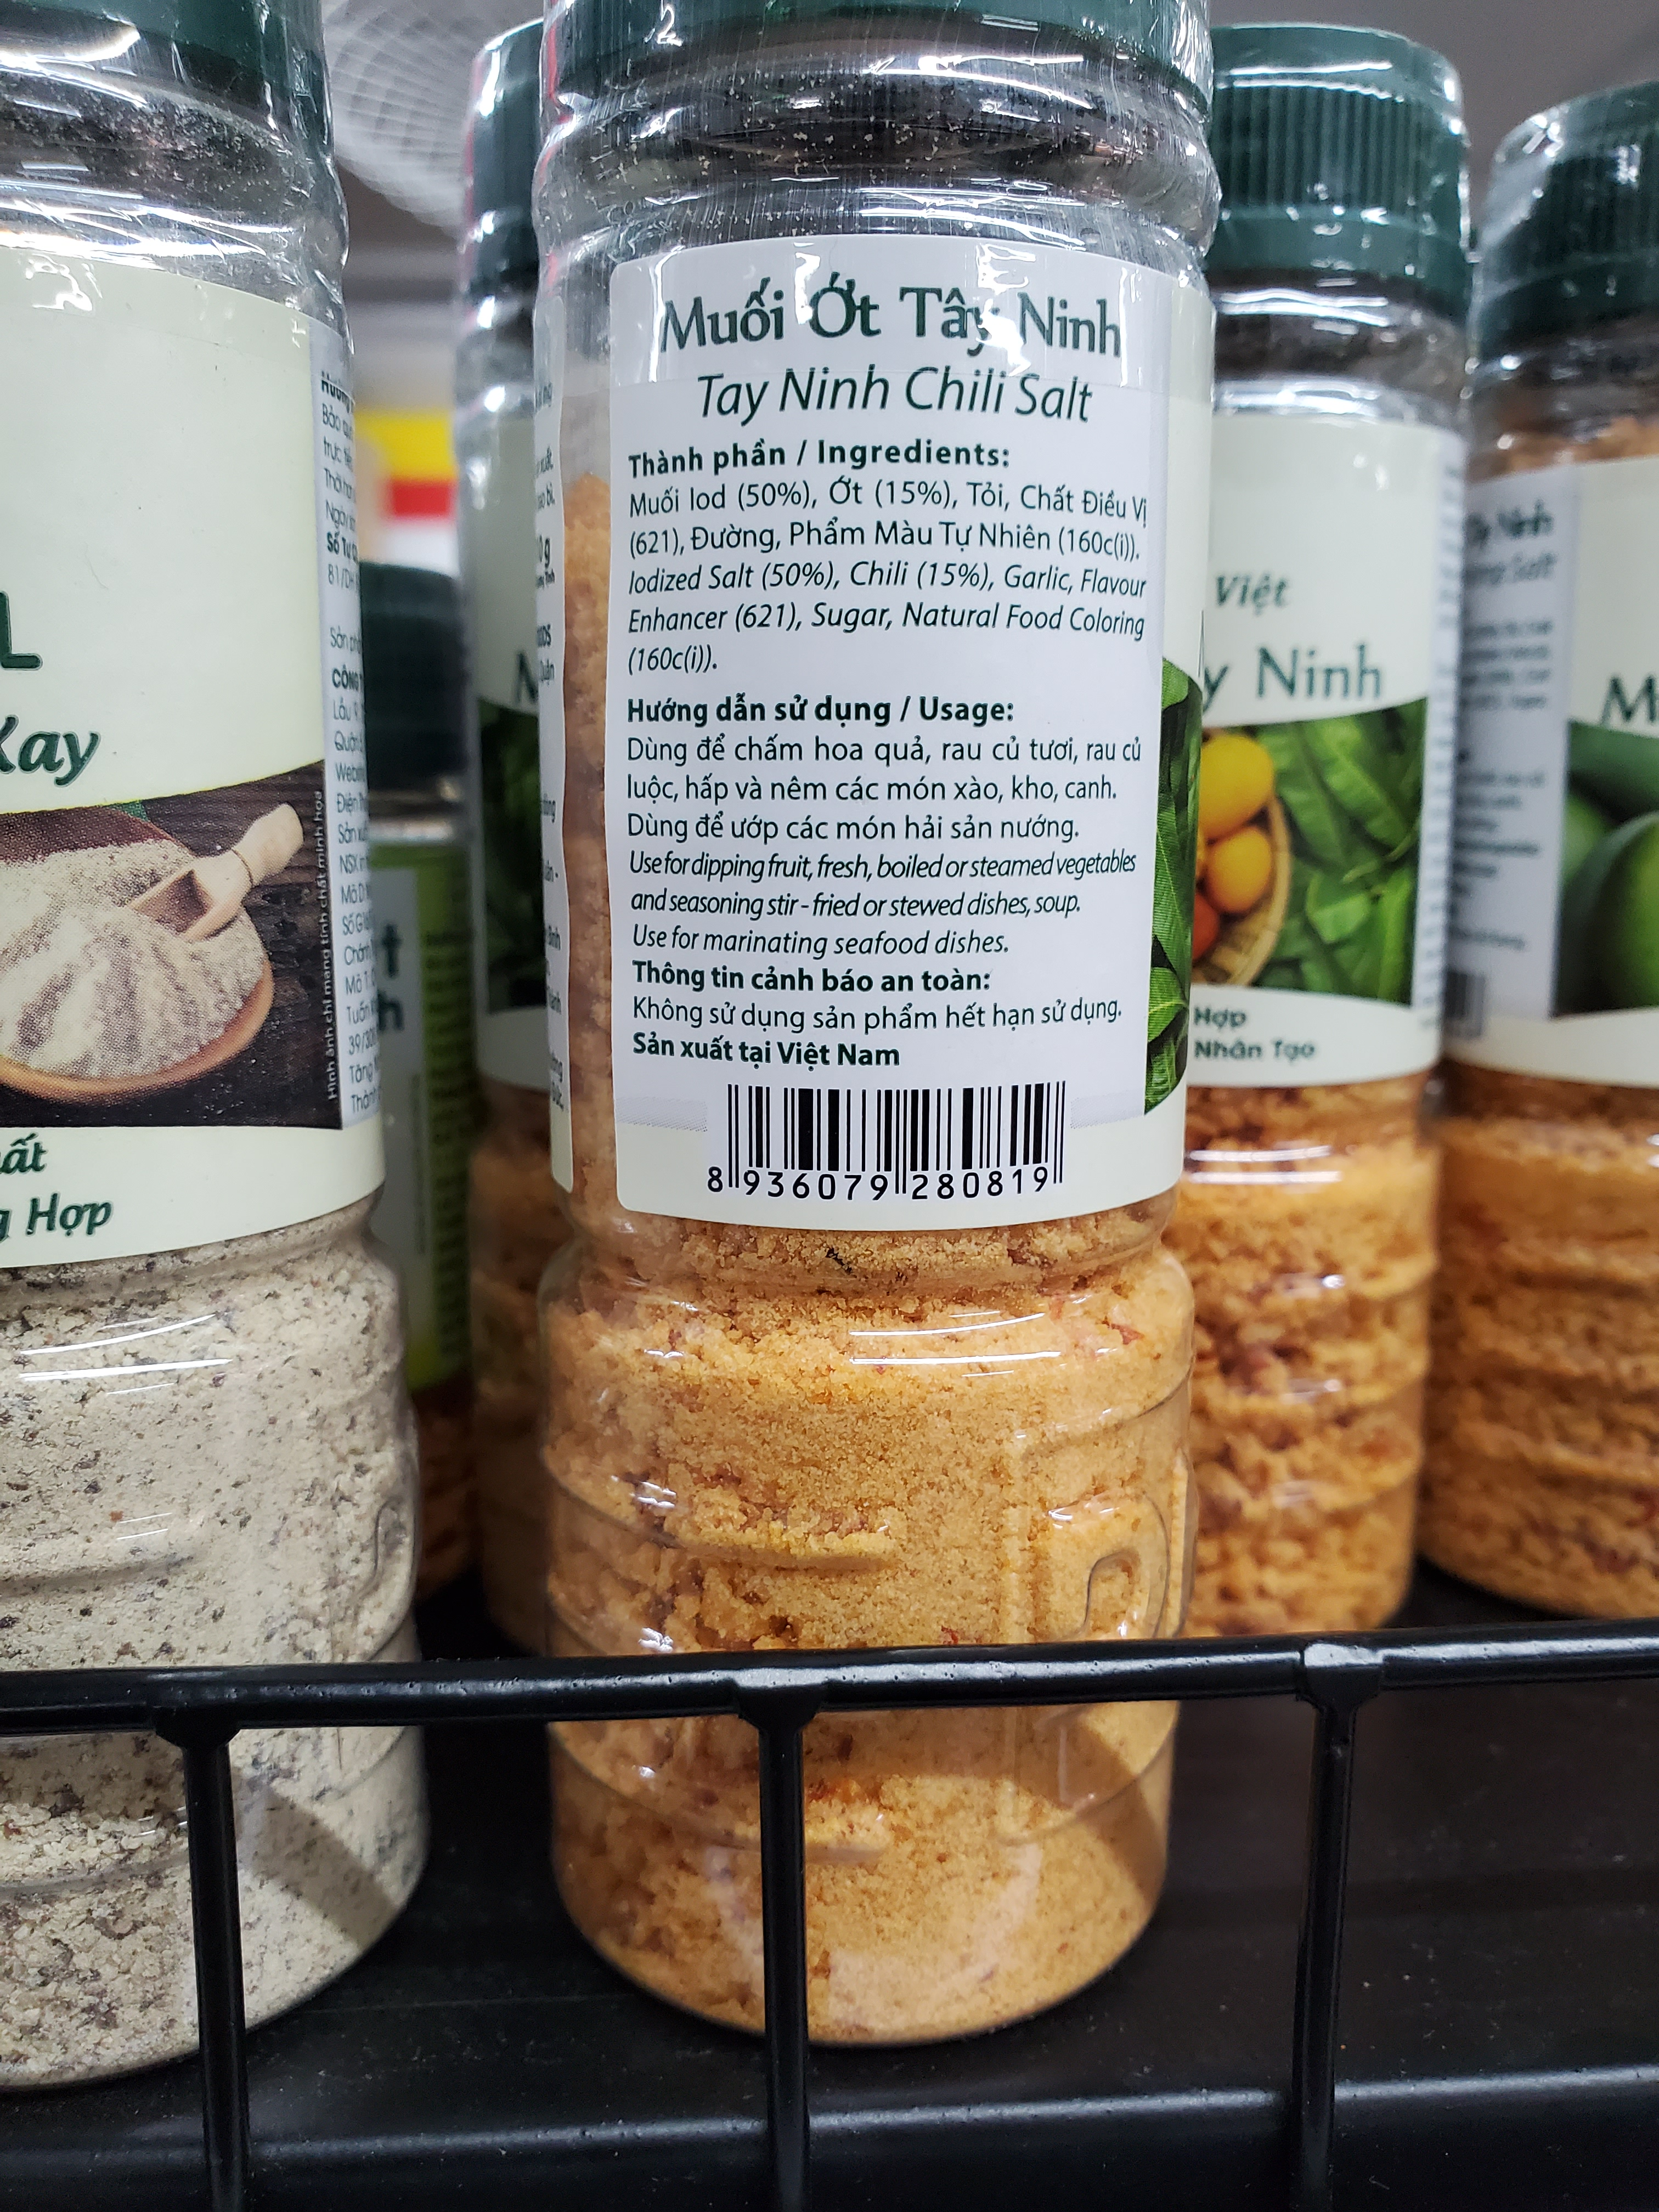barcode: (648, 1076, 1098, 1217)
